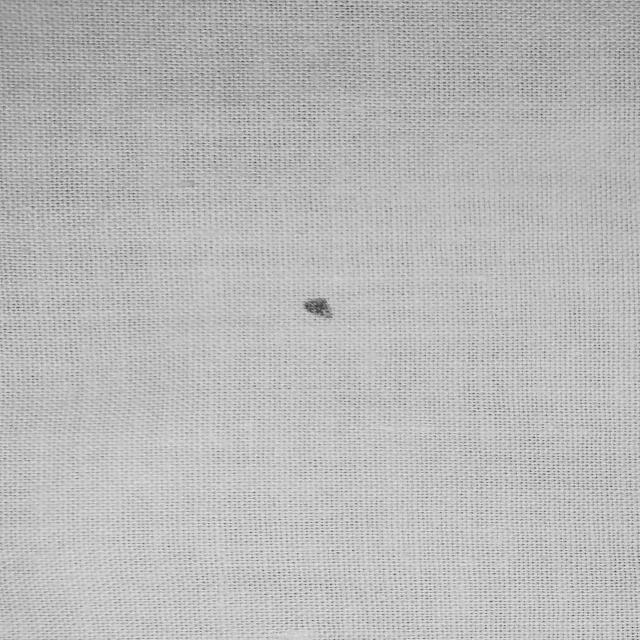Stain: (303, 298, 332, 318)
